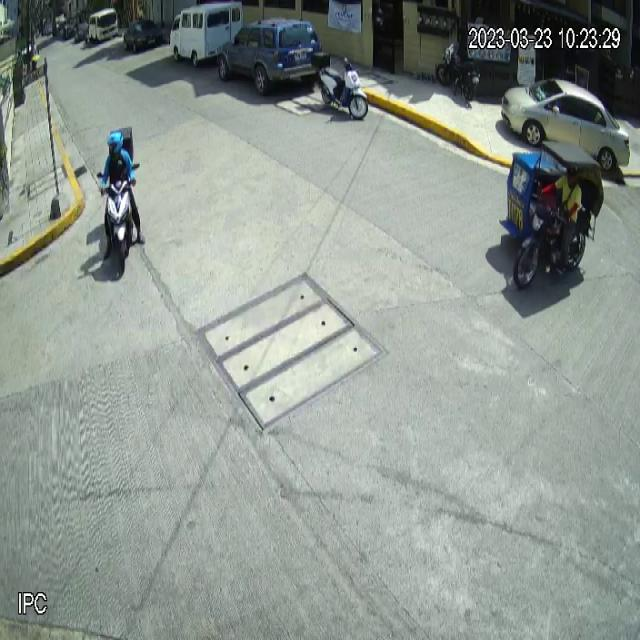Car: (501, 79, 631, 172), (216, 15, 322, 97)
Motorcycle: (97, 161, 143, 270), (312, 51, 368, 120)
Tricycle: (498, 135, 604, 289)
Van: (169, 0, 243, 67)
